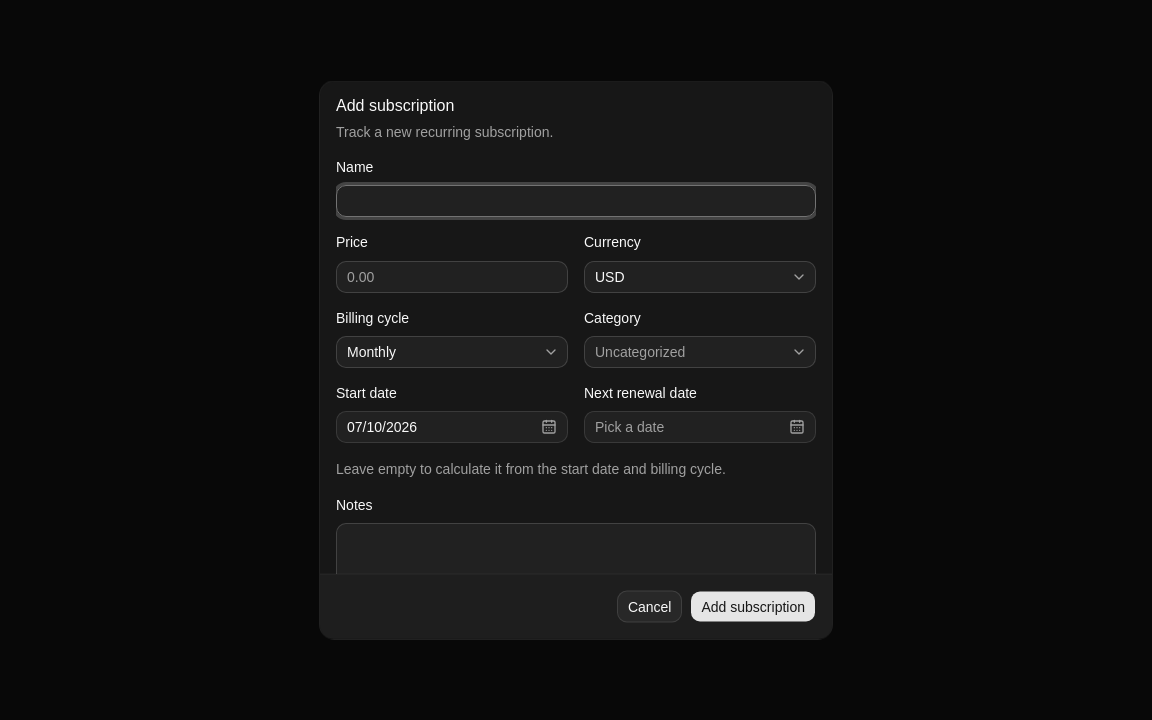
it: SubscriptionFormDialog price entry › still blocks a price with two separators
In the field labelled "Name": [576, 201] box 336,185 -> 816,217, type "Netflix"
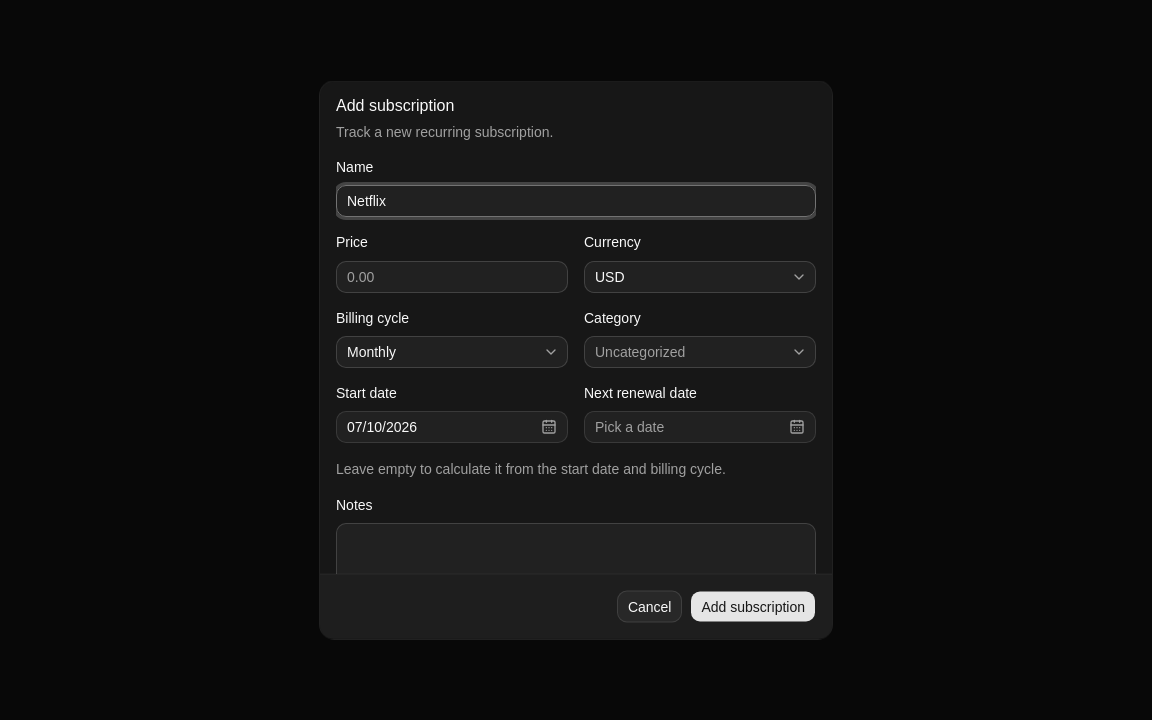
In the field labelled "Price": [452, 276] box 336,260 -> 568,292, type "1.234,56"
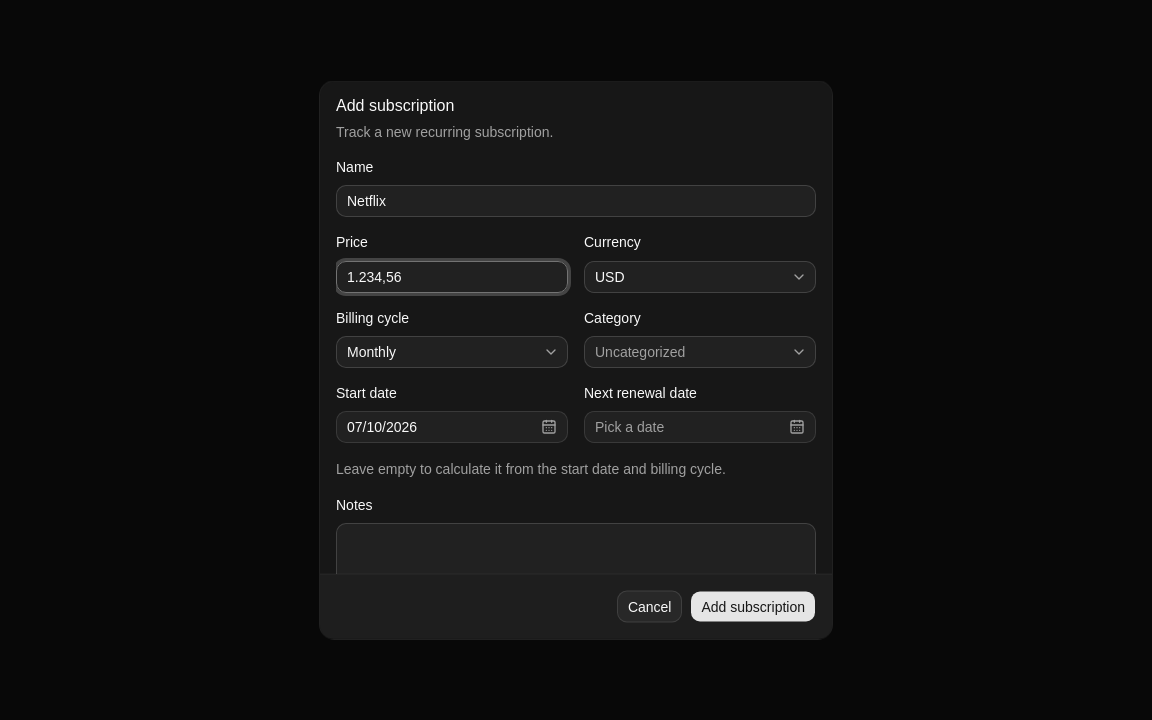
Click the button "Add subscription": [753, 606] box 690,590 -> 816,622
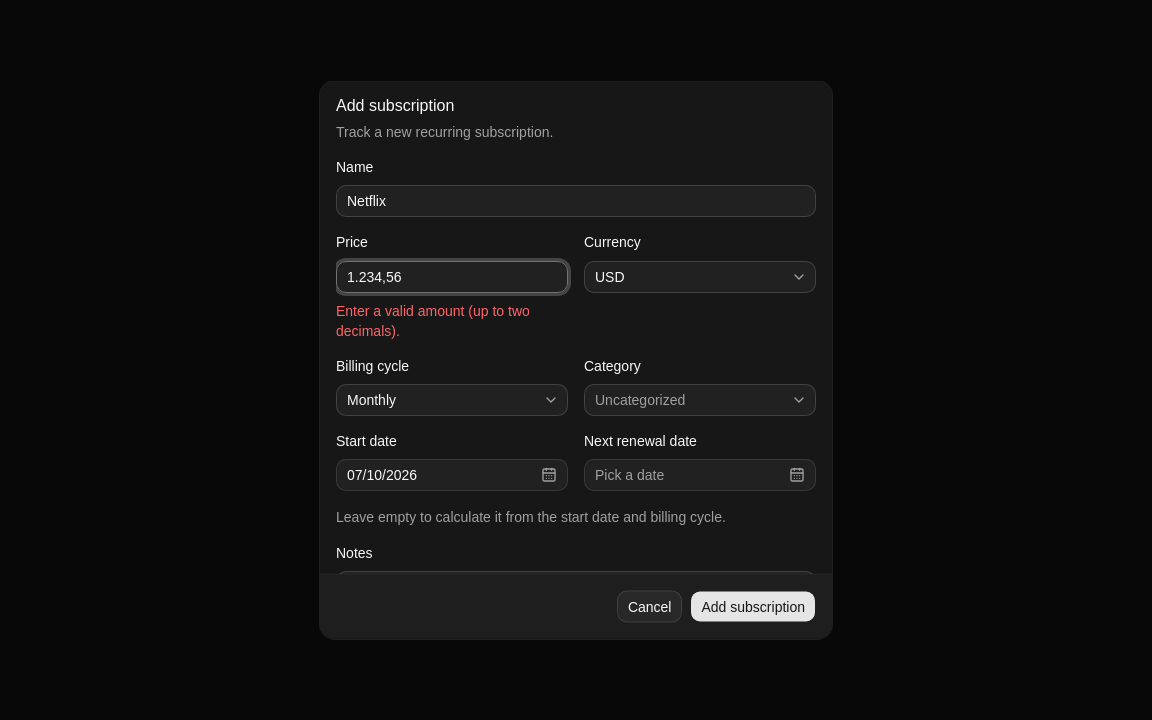
Now the text "Enter a valid amount (up to two decimals)." is shown, box 336,302 -> 530,338
